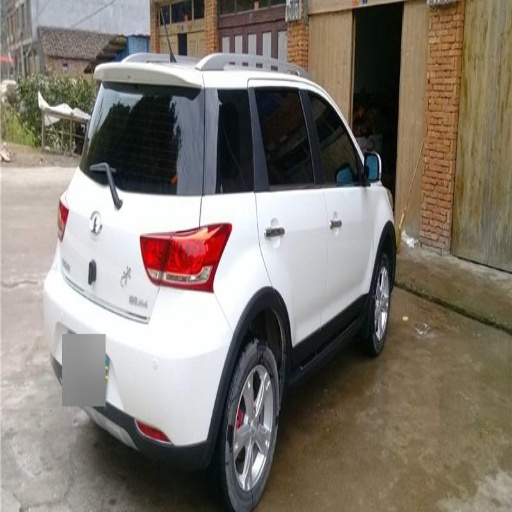back_bumper: (44, 260, 240, 443)
back_right_door: (199, 85, 328, 363)
tailgate: (65, 260, 145, 314)
trunk: (60, 185, 198, 315)
